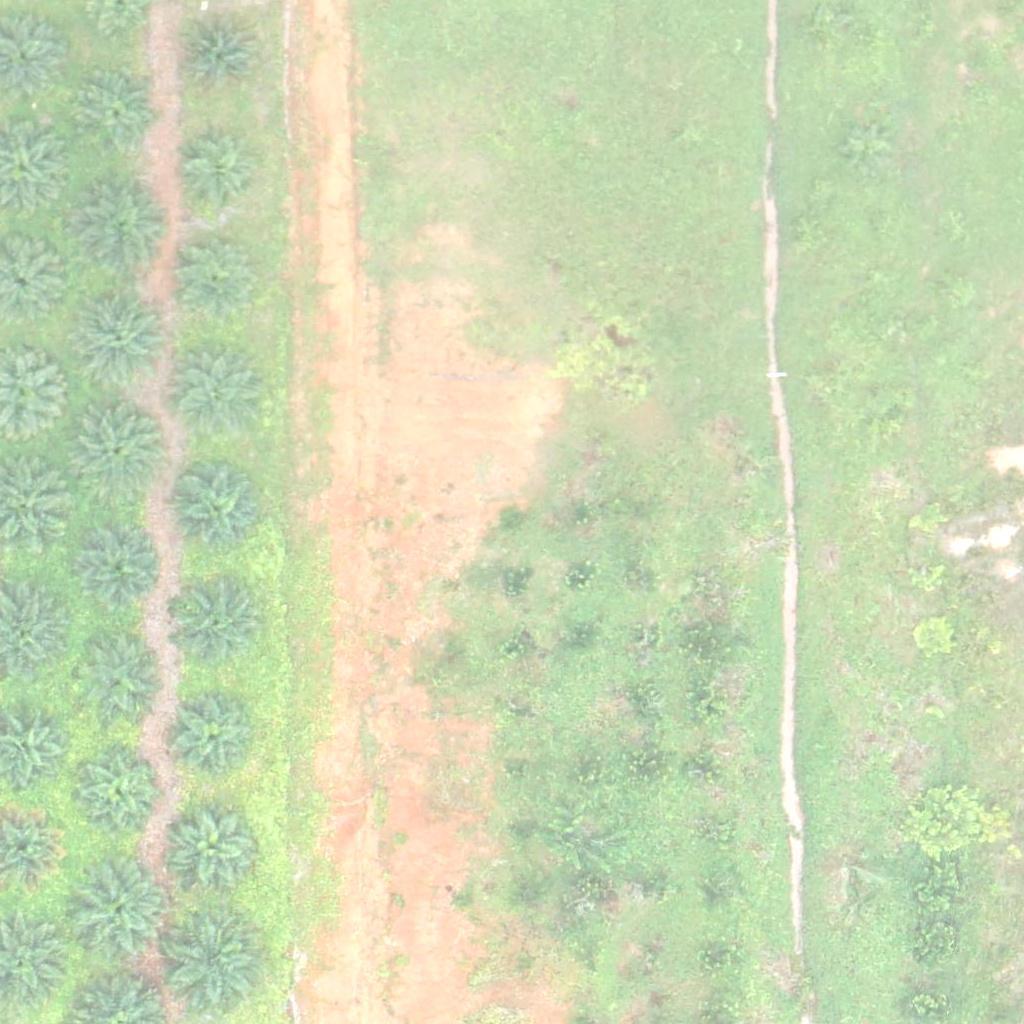Kelapa_Sawit: (75, 289, 175, 390), (68, 400, 168, 501), (167, 459, 267, 560), (71, 178, 171, 278), (162, 909, 262, 1009), (67, 861, 167, 961), (173, 133, 261, 221), (76, 70, 164, 158), (73, 524, 161, 612), (175, 580, 263, 668), (171, 694, 259, 782), (172, 804, 260, 892), (177, 14, 264, 102), (77, 636, 164, 724), (173, 234, 260, 322), (173, 349, 260, 437), (74, 747, 161, 835)
